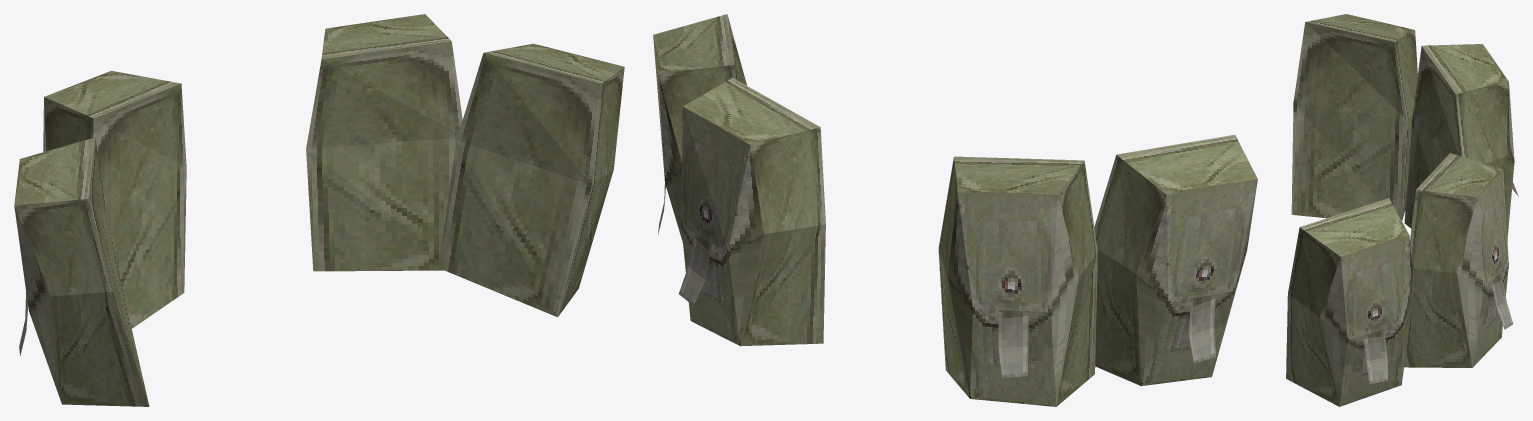
The model's file is recovered_gear_gear_m60_ammo_be1590fe89da.glb.
3 views of the same model, side by side, from view 1: azimuth 30°, elevation 25°; view 2: azimuth 150°, elevation 25°; view 3: azimuth 270°, elevation 25° (orthographic). The views are drawn at different scales.
Visible parts, largest first — view 1: gear_m60_ammo; view 2: gear_m60_ammo; view 3: gear_m60_ammo.
Part boxes in pixels (bbox=[...]): gear_m60_ammo: bbox=[14, 14, 624, 406]; gear_m60_ammo: bbox=[653, 14, 1257, 406]; gear_m60_ammo: bbox=[1286, 14, 1518, 406].
Size of the model in its own units: 0.5269 by 0.1978 by 0.2182.
1 material, 1 textured.
